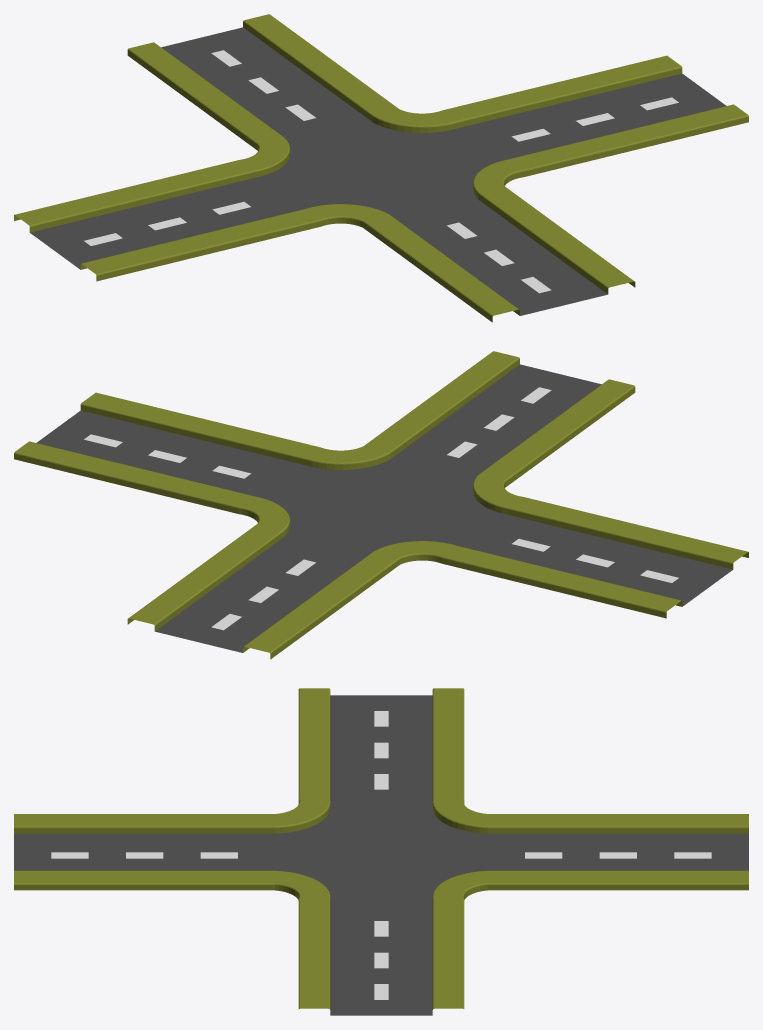
Rendered from xroad 2.fbx.
The picture shows the model from 3 angles, top to bottom: view 1: azimuth 30°, elevation 25°; view 2: azimuth 150°, elevation 25°; view 3: azimuth 270°, elevation 25°; orthographic projection.
Parts seen in each view (by area): view 1: Plane.007; view 2: Plane.007; view 3: Plane.007.
Part boxes in pixels (<box>): Plane.007: <box>14,14,748,322</box>; Plane.007: <box>14,351,748,659</box>; Plane.007: <box>14,688,748,1015</box>.
Bounding box in the file's own units: 4052 × 40.43 × 3927.
